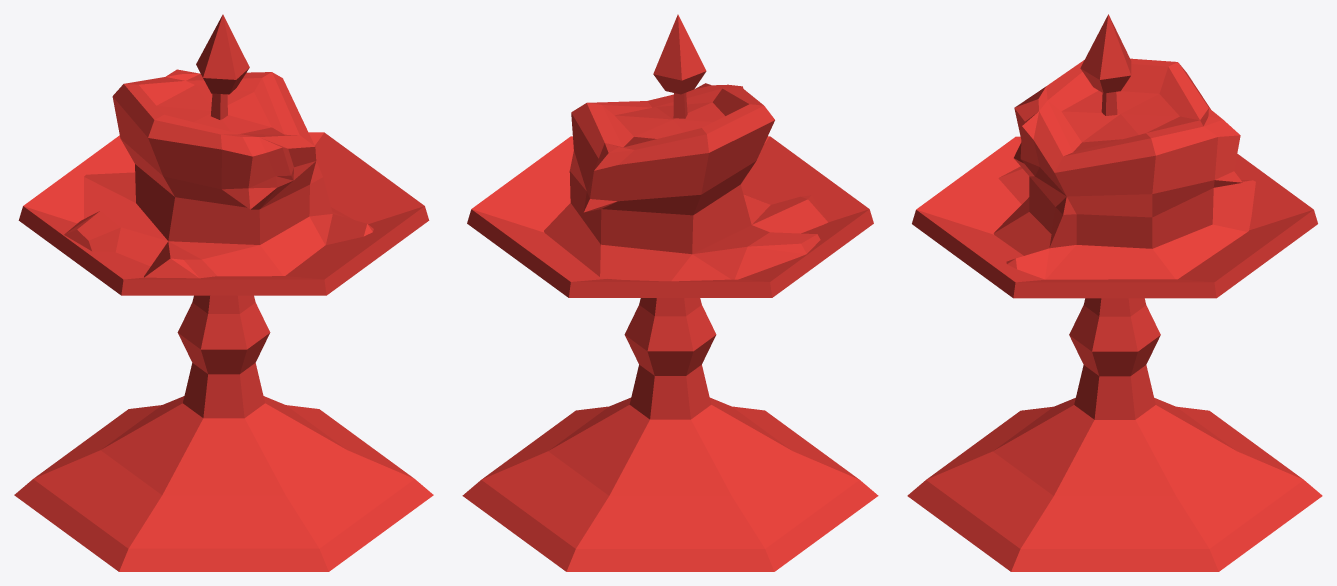
Rendered from SM_Candle_Holder_Short_B_Lit_Christmas.fbx.
The picture shows the model from 3 angles, left to right: view 1: azimuth 30°, elevation 25°; view 2: azimuth 150°, elevation 25°; view 3: azimuth 270°, elevation 25°; orthographic projection.
Parts seen in each view (by area): view 1: candle-holder-short-b-lit-christmas; view 2: candle-holder-short-b-lit-christmas; view 3: candle-holder-short-b-lit-christmas.
Boxes of the visible parts, left/top/right/bottom form: candle-holder-short-b-lit-christmas: left=14, top=14, right=433, bottom=571; candle-holder-short-b-lit-christmas: left=462, top=14, right=878, bottom=571; candle-holder-short-b-lit-christmas: left=907, top=14, right=1322, bottom=571.
Size of the model in its own units: 0.1495 by 0.2199 by 0.1727.
